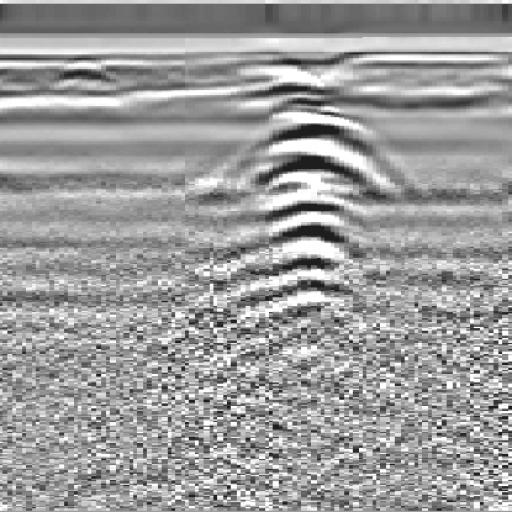metalic: (193, 65, 424, 351)
